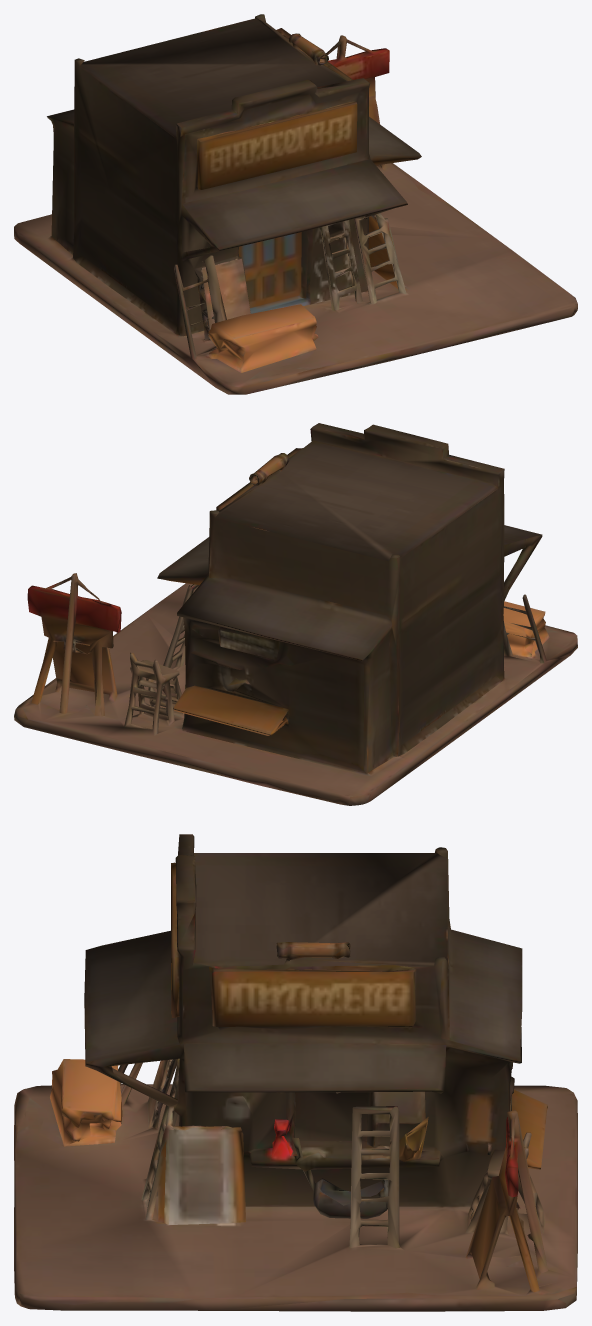
The model's file is hardware.glb.
The picture shows the model from 3 angles, top to bottom: view 1: azimuth 30°, elevation 25°; view 2: azimuth 150°, elevation 25°; view 3: azimuth 270°, elevation 25°; orthographic projection. The views are drawn at different scales.
Size of the model in its own units: 0.9064 by 0.5639 by 1.
1 material, 1 textured.
